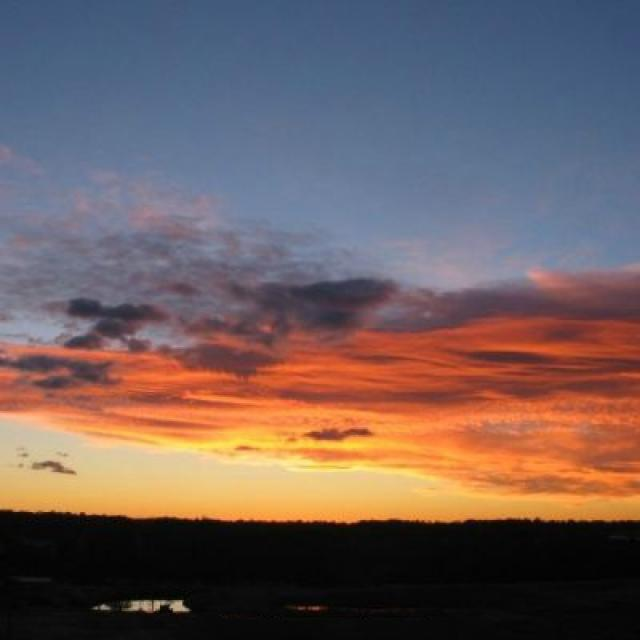As: (1, 140, 640, 494)
